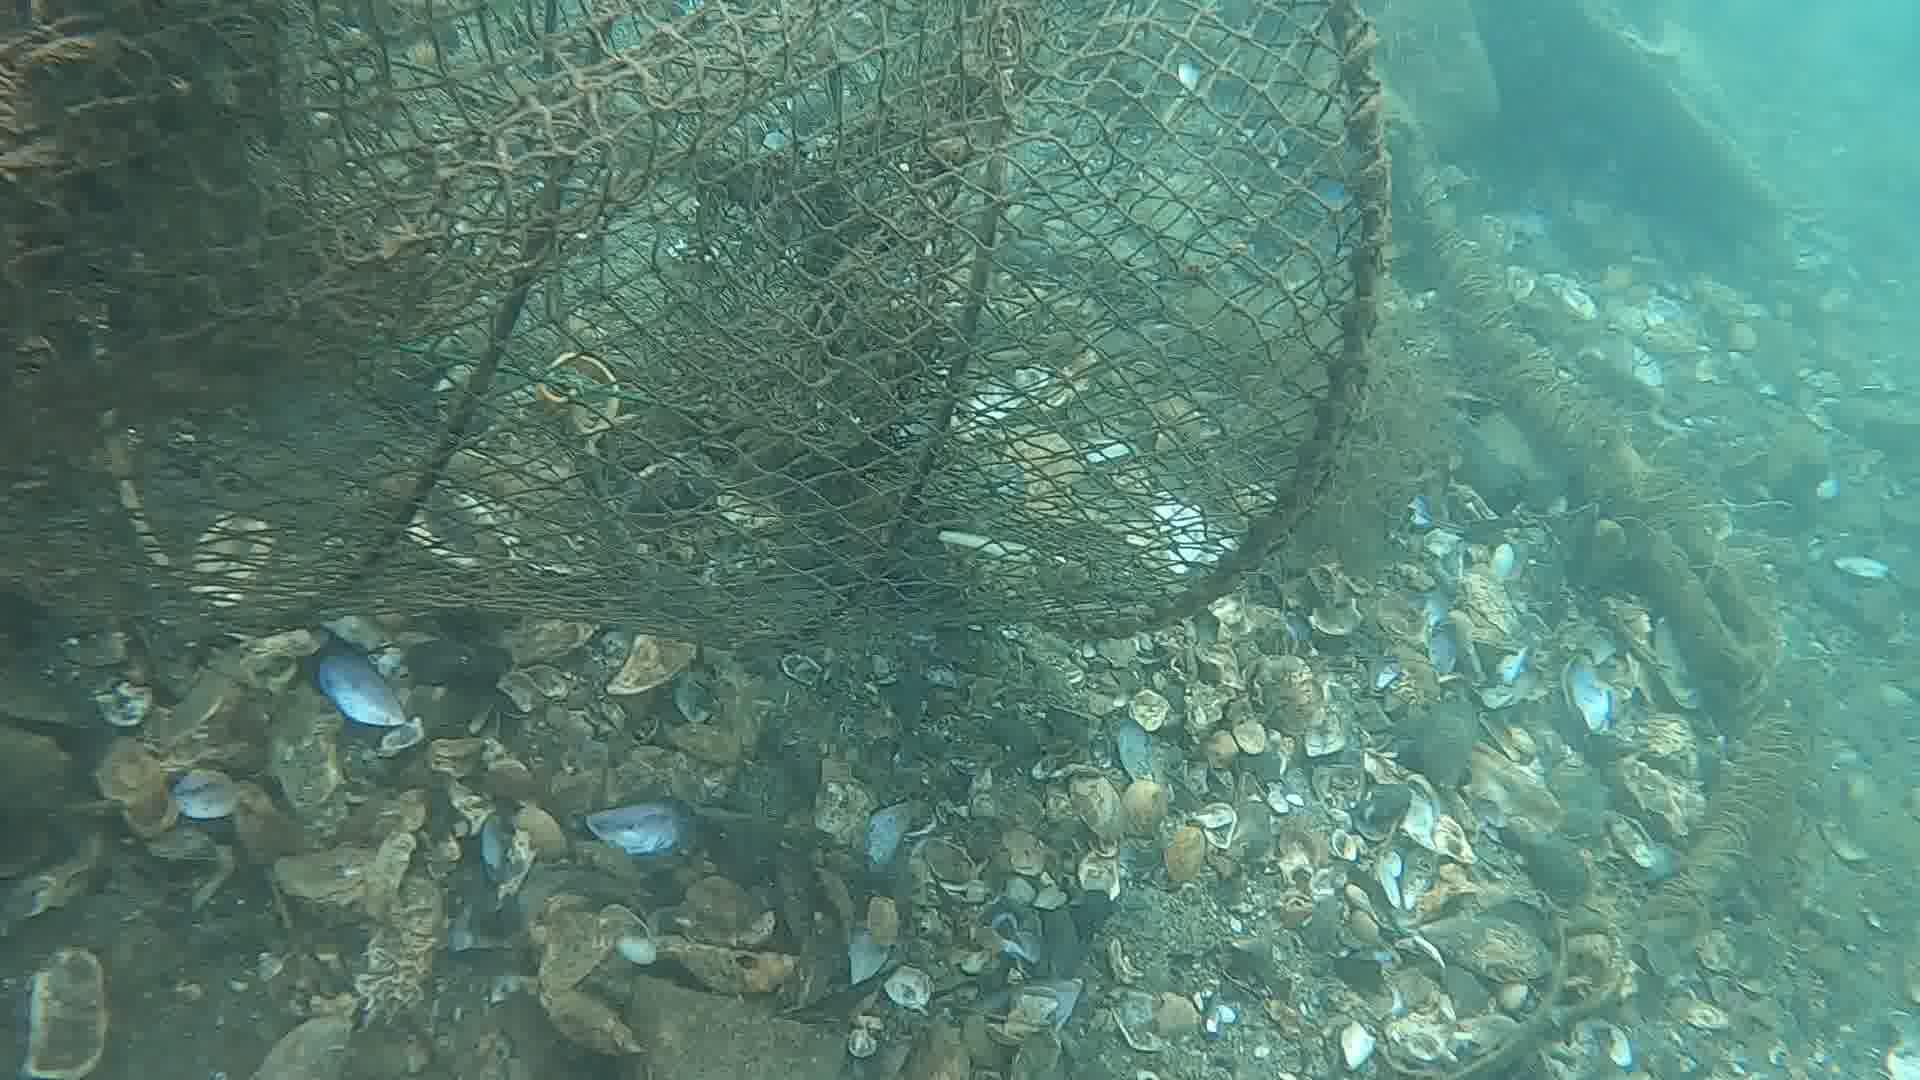spring fish trap: (0, 0, 1389, 647)
